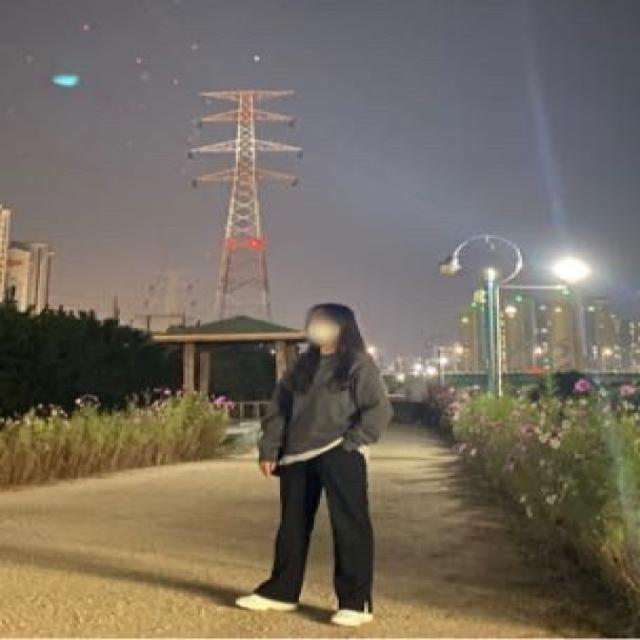mtm: (259, 341, 392, 462)
slacks: (257, 444, 376, 614)
